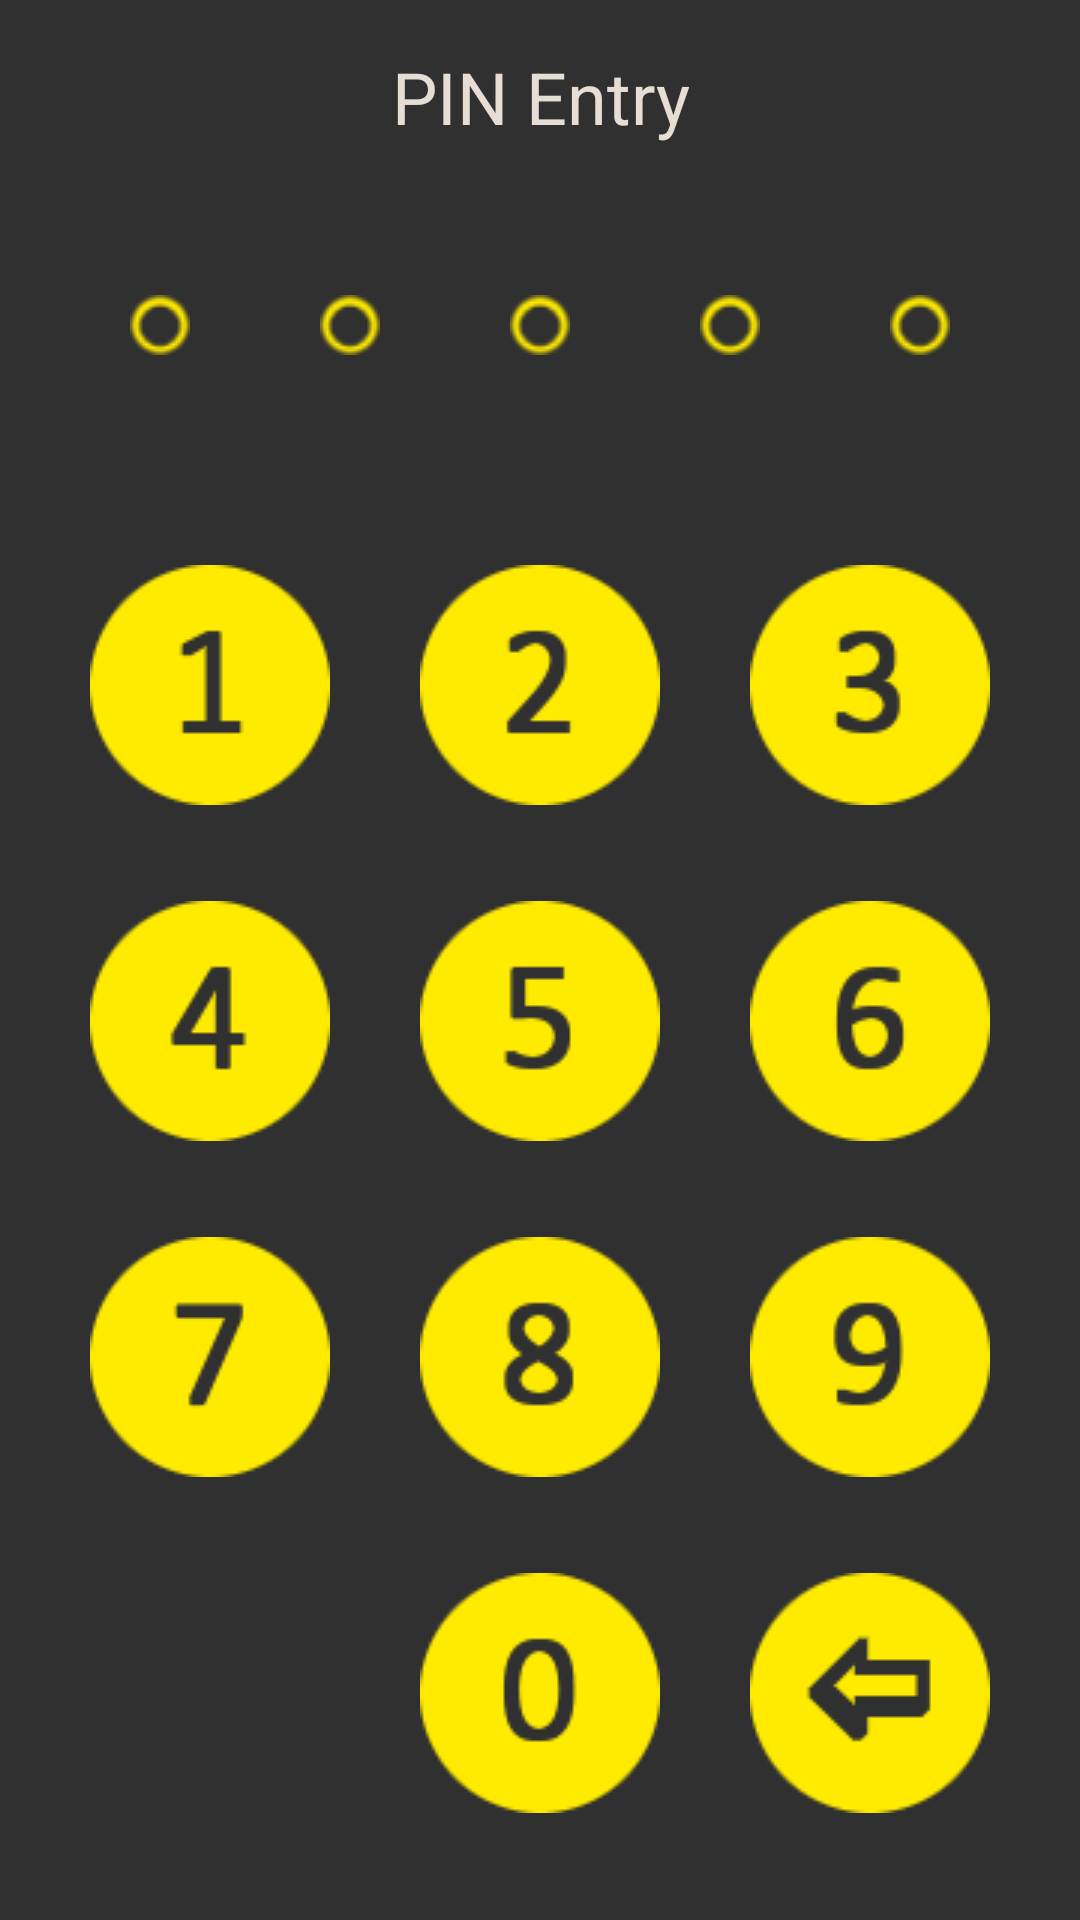

Where icons sit on this 1080px x 1920px app screen, as [x1,y1,x2,y2]:
Backspace: [750,1573,990,1813]
